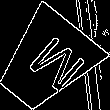M_SW: (11, 28, 81, 96)
